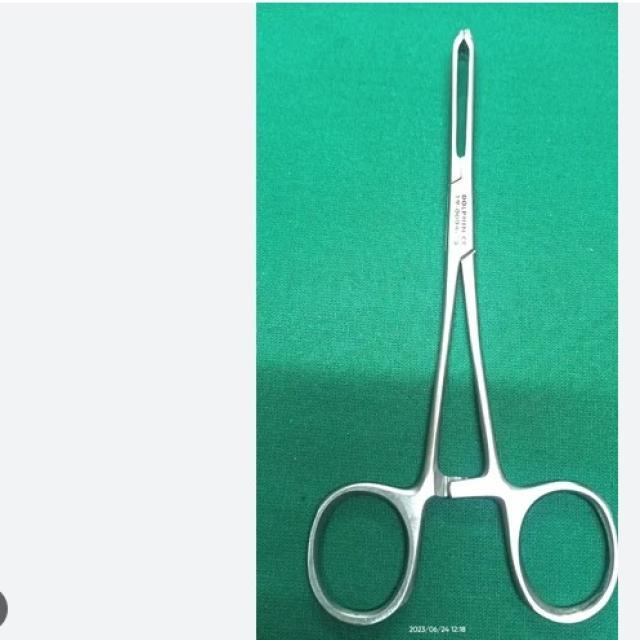Allis Forceps: (309, 15, 619, 634)
